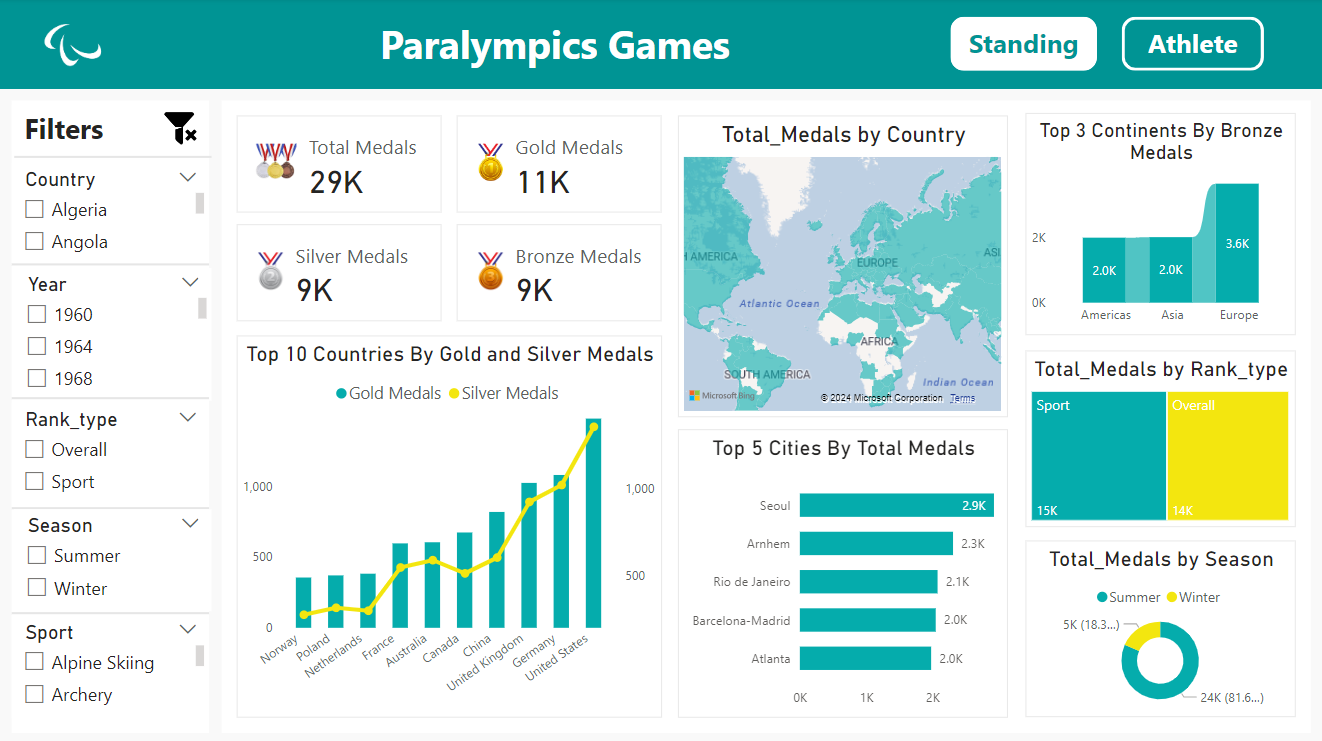

This screenshot's page, from the dashboard's own definition file:
{"tool":"powerbi","page":{"name":"Dashboard","canvas":[1280,720],"ordinal":0},"visuals":[{"type":"shape","box":[0,0,1280.3,87.8],"z":0},{"type":"image","box":[0,0,141.3,87.8],"z":1000},{"type":"shape","box":[253.9,0,568.1,87.8],"z":2000},{"type":"actionButton","box":[1084.1,17.8,137.2,52.1],"z":3000},{"type":"actionButton","box":[919.4,17.8,141.3,52.1],"z":4000},{"type":"shape","box":[13.7,98.8,190.7,610.6],"z":5000},{"type":"shape","box":[215.4,98.8,1051.1,610.6],"z":6000},{"type":"cardVisual","fields":{"Data":["Key_Measures.Total_Medals"]},"box":[230.5,113.9,197.6,93.3],"z":7000},{"type":"cardVisual","fields":{"Data":["Key_Measures.Total_Gold_Medals"]},"box":[443.2,113.9,197.6,93.3],"z":8000},{"type":"lineStackedColumnComboChart","title":"Top 10 Countries By Gold and Silver Medals","fields":{"Category":["dim_country.Country"],"Y":["Key_Measures.Total_Gold_Medals"],"Y2":["Key_Measures.Total_Silver_Medals"]},"box":[230.5,325.2,410.3,369.1],"z":9000},{"type":"textbox","box":[13.7,104.3,190.7,43.9],"z":10000},{"type":"shape","box":[15.1,131.7,190.7,32.9],"z":11000},{"type":"slicer","fields":{"Values":["dim_country.Country"]},"box":[13.7,159.2,190.7,98.8],"z":12000},{"type":"shape","box":[13.7,251.1,190.7,12.3],"z":13000},{"type":"slicer","fields":{"Values":["fact_standings.Year"]},"box":[15.1,260.7,190.7,127.6],"z":14000},{"type":"slicer","fields":{"Values":["dim_rank_type.Rank_type"]},"box":[13.7,391.1,190.7,102.9],"z":15000},{"type":"shape","box":[13.7,380.1,190.7,12.3],"z":16000},{"type":"shape","box":[13.7,485.8,190.7,12.3],"z":17000},{"type":"slicer","fields":{"Values":["dim_season.Season"]},"box":[15.1,494,190.7,98.8],"z":18000},{"type":"shape","box":[13.7,587.3,190.7,12.3],"z":19000},{"type":"slicer","fields":{"Values":["fact_standings.Sport"]},"box":[13.7,595.5,190.7,98.8],"z":20000},{"type":"filledMap","fields":{"Category":["dim_country.Country"]},"box":[655.9,113.9,318.4,290.9],"z":21000},{"type":"barChart","title":"Top 5 Cities By Total Medals","fields":{"Category":["dim_city.City"],"Y":["Key_Measures.Total_Medals"]},"box":[655.9,415.8,318.4,278.6],"z":22000},{"type":"donutChart","fields":{"Category":["dim_season.Season"],"Y":["Key_Measures.Total_Medals"]},"box":[992.1,524.2,260.7,170.2],"z":23000},{"type":"treemap","fields":{"Group":["dim_rank_type.Rank_type"],"Values":["Key_Measures.Total_Medals"]},"box":[992.1,340.3,260.7,170.2],"z":24000},{"type":"ribbonChart","title":"Top 3 Continents By Bronze Medals","fields":{"Category":["dim_continent.Continent"],"Y":["Key_Measures.Total_Bronze_Medals"]},"box":[992.1,111.1,260.7,214.1],"z":25000},{"type":"cardVisual","fields":{"Data":["Key_Measures.Total_Silver_Medals"]},"box":[230.5,218.2,197.6,93.3],"z":26000},{"type":"cardVisual","fields":{"Data":["Key_Measures.Total_Bronze_Medals"]},"box":[443.2,218.2,197.6,93.3],"z":27000},{"type":"image","box":[155.1,101.5,41.2,48],"z":28000}]}

Visuals, with their boxes in screenshot pixels (x1, y1, x2, y2), scaled from the page's 1280x720 canvas onto the 1322x741 screenshot:
shape: l=0, t=0, r=1321, b=90
image: l=0, t=0, r=146, b=90
shape: l=262, t=0, r=849, b=90
actionButton: l=1120, t=18, r=1261, b=72
actionButton: l=950, t=18, r=1096, b=72
shape: l=14, t=102, r=211, b=730
shape: l=222, t=102, r=1308, b=730
cardVisual - Key_Measures.Total_Medals: l=238, t=117, r=442, b=213
cardVisual - Key_Measures.Total_Gold_Medals: l=458, t=117, r=662, b=213
"Top 10 Countries By Gold and Silver Medals" lineStackedColumnComboChart: l=238, t=335, r=662, b=715
textbox: l=14, t=107, r=211, b=153
shape: l=16, t=136, r=213, b=169
slicer - dim_country.Country: l=14, t=164, r=211, b=266
shape: l=14, t=258, r=211, b=271
slicer - fact_standings.Year: l=16, t=268, r=213, b=400
slicer - dim_rank_type.Rank_type: l=14, t=403, r=211, b=508
shape: l=14, t=391, r=211, b=404
shape: l=14, t=500, r=211, b=513
slicer - dim_season.Season: l=16, t=508, r=213, b=610
shape: l=14, t=604, r=211, b=617
slicer - fact_standings.Sport: l=14, t=613, r=211, b=715
filledMap - dim_country.Country: l=677, t=117, r=1006, b=417
"Top 5 Cities By Total Medals" barChart: l=677, t=428, r=1006, b=715
donutChart - dim_season.Season x Key_Measures.Total_Medals: l=1025, t=539, r=1294, b=715
treemap - dim_rank_type.Rank_type x Key_Measures.Total_Medals: l=1025, t=350, r=1294, b=525
"Top 3 Continents By Bronze Medals" ribbonChart: l=1025, t=114, r=1294, b=335
cardVisual - Key_Measures.Total_Silver_Medals: l=238, t=225, r=442, b=321
cardVisual - Key_Measures.Total_Bronze_Medals: l=458, t=225, r=662, b=321
image: l=160, t=104, r=203, b=154
